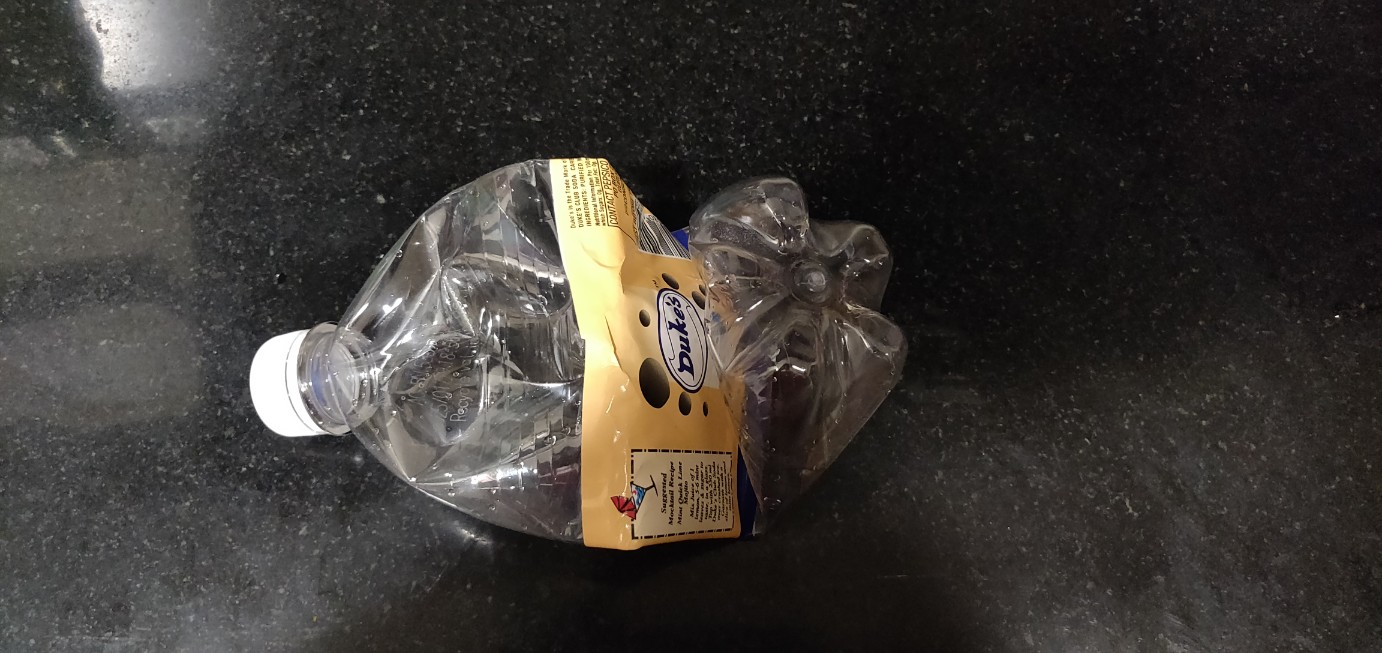Electronics: (235, 123, 941, 570)
